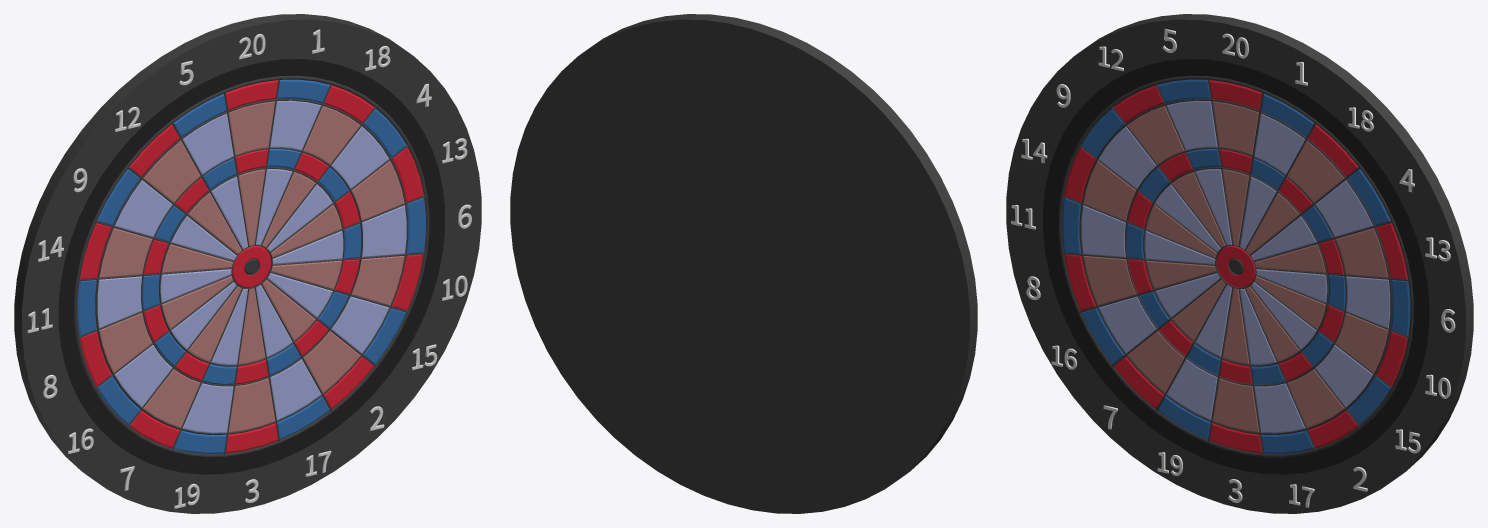
Rendered from DartsBoard.fbx.
The picture shows the model from 3 angles, left to right: view 1: azimuth 30°, elevation 25°; view 2: azimuth 150°, elevation 25°; view 3: azimuth 330°, elevation 25°; orthographic projection.
Parts seen in each view (by area): view 1: Boad, S6o, S3o, S10o, S17o, S13o, S11o, S15o, S1o, S19o, S9o, S14o (+70 smaller); view 2: Boad; view 3: Boad, S11o, S8o, S3o, S19o, S14o, S16o, S6o, S17o, S10o, S13o, S4o (+70 smaller).
Part boxes in pixels (x1,y1,x2,y2): Boad: [14, 14, 481, 513]; S6o: [362, 205, 406, 257]; S3o: [228, 378, 275, 432]; S10o: [351, 255, 404, 305]; S17o: [270, 359, 321, 420]; S13o: [351, 160, 404, 220]; S11o: [97, 276, 141, 328]; S15o: [331, 296, 389, 353]; S1o: [270, 100, 321, 150]; S19o: [182, 383, 233, 433]; S9o: [115, 180, 172, 237]; S14o: [99, 228, 152, 277]; Boad: [510, 14, 977, 513]; Boad: [1006, 14, 1473, 513]; S11o: [1081, 205, 1125, 257]; S8o: [1083, 255, 1136, 305]; S3o: [1212, 378, 1259, 432]; S19o: [1166, 359, 1217, 420]; S14o: [1083, 160, 1136, 220]; S16o: [1098, 296, 1156, 353]; S6o: [1346, 276, 1390, 328]; S17o: [1254, 383, 1305, 433]; S10o: [1335, 313, 1388, 372]; S13o: [1335, 228, 1388, 277]; S4o: [1315, 180, 1372, 237].
Bounding box in the file's own units: 0.5193 × 0.5193 × 0.0169.
Materials: 2 (1 with a texture image).
